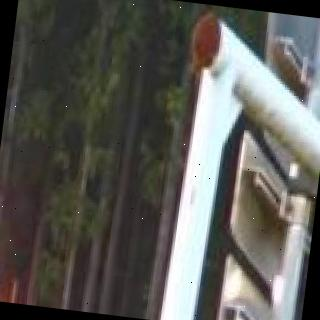fire: (0, 135, 16, 301)
